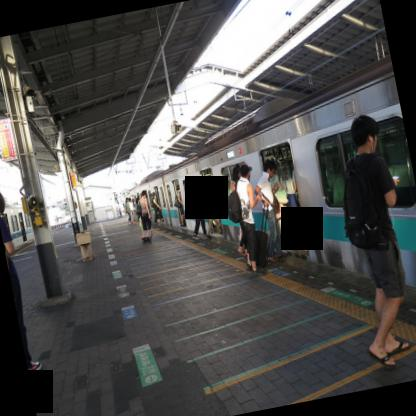backpack: (344, 154, 387, 249), (225, 178, 241, 223), (188, 200, 198, 217), (173, 195, 182, 207)
handbag: (262, 193, 279, 212), (202, 191, 214, 211), (274, 189, 288, 203), (5, 249, 10, 280), (173, 194, 179, 208), (136, 204, 142, 215)
suitcase: (255, 203, 269, 267), (140, 229, 153, 242)
